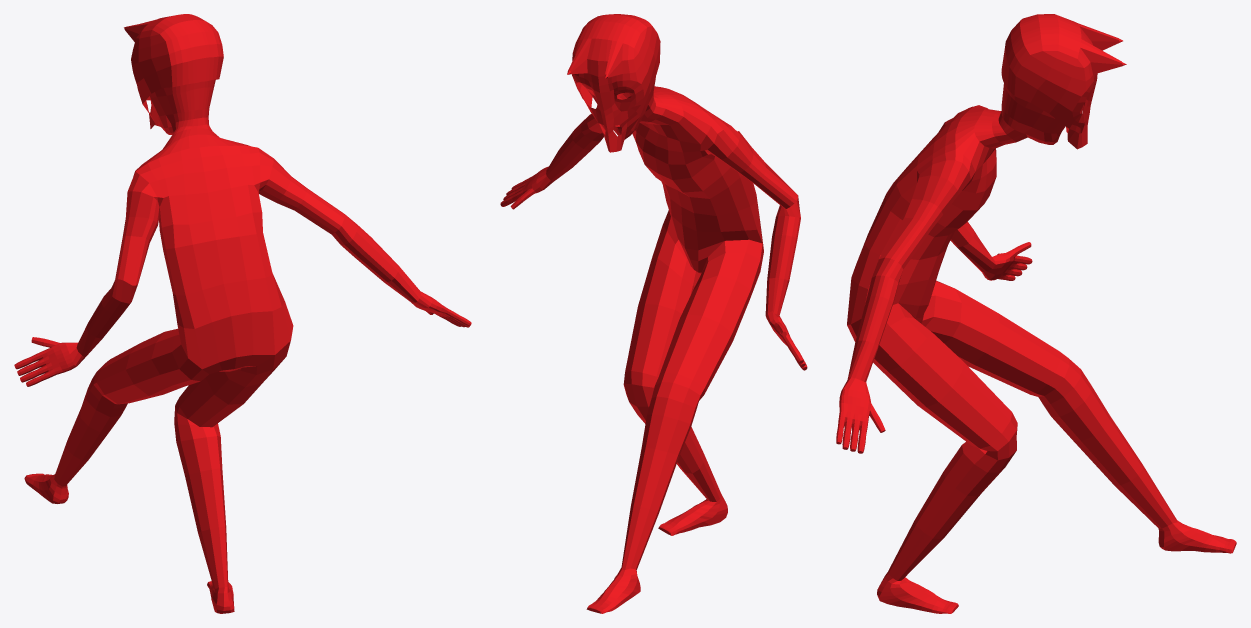
The model's file is saltoadelanteE_000132.obj.
3 renders of one model, left to right at view 1: azimuth 30°, elevation 25°; view 2: azimuth 150°, elevation 25°; view 3: azimuth 270°, elevation 25°, orthographic. The views are drawn at different scales.
Parts seen in each view (by area): view 1: Plane.002_Plane.001; view 2: Plane.002_Plane.001; view 3: Plane.002_Plane.001.
Part boxes in pixels (box(x1,y1,x2,y2)): Plane.002_Plane.001: box(14, 14, 471, 613); Plane.002_Plane.001: box(500, 14, 807, 613); Plane.002_Plane.001: box(836, 14, 1236, 613).
Size of the model in its own units: 4.27 by 5.86 by 3.58.
